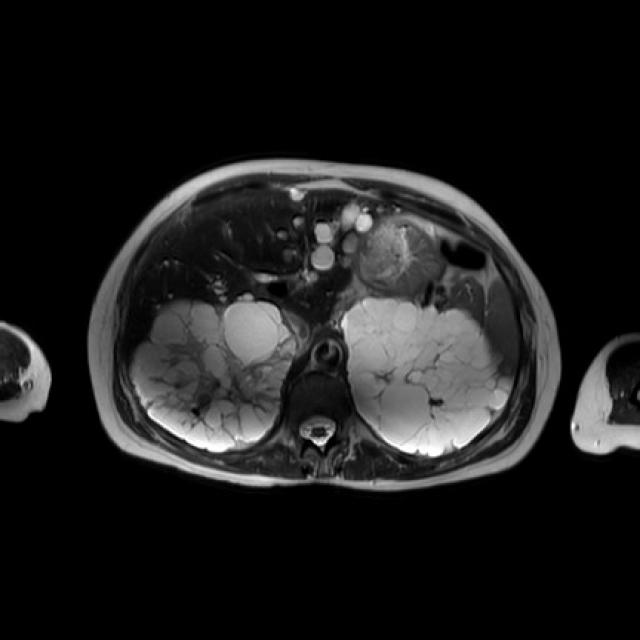sag: (131, 297, 300, 451)
sol: (343, 295, 510, 455)
